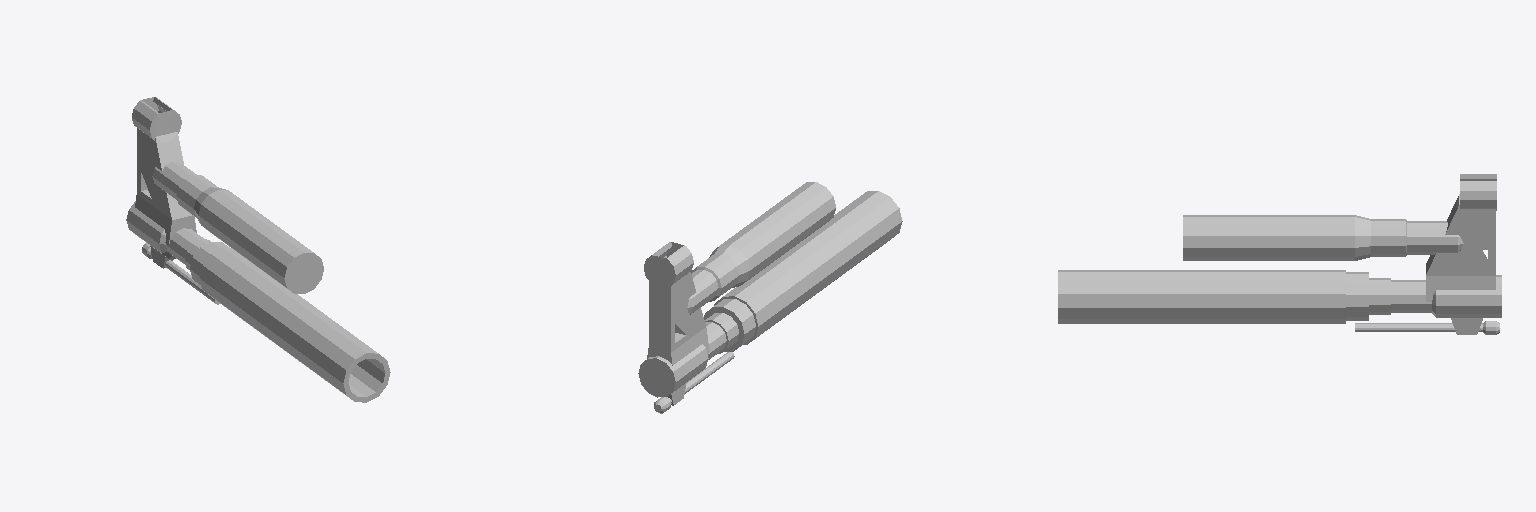
The model's file is Barrel3.obj.
3 renders of one model, left to right at view 1: azimuth 30°, elevation 25°; view 2: azimuth 150°, elevation 25°; view 3: azimuth 270°, elevation 25°, orthographic.
Visible parts, largest first — view 1: Cylinder_Cylinder.002; view 2: Cylinder_Cylinder.002; view 3: Cylinder_Cylinder.002.
Boxes of the visible parts, x1,y1,x2,y2 form: Cylinder_Cylinder.002: [126, 97, 390, 402]; Cylinder_Cylinder.002: [638, 182, 902, 413]; Cylinder_Cylinder.002: [1058, 174, 1501, 334].
Bounding box in the file's own units: 0.0376 × 0.1194 × 0.3059.